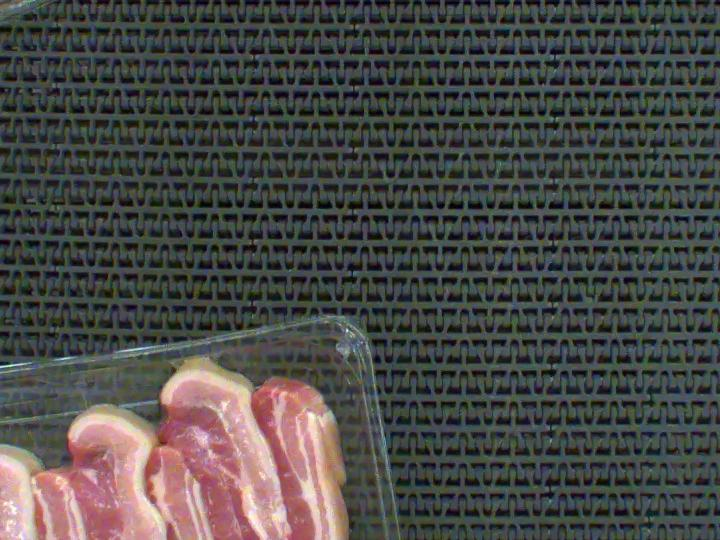packaging-error: (146, 322, 252, 385)
